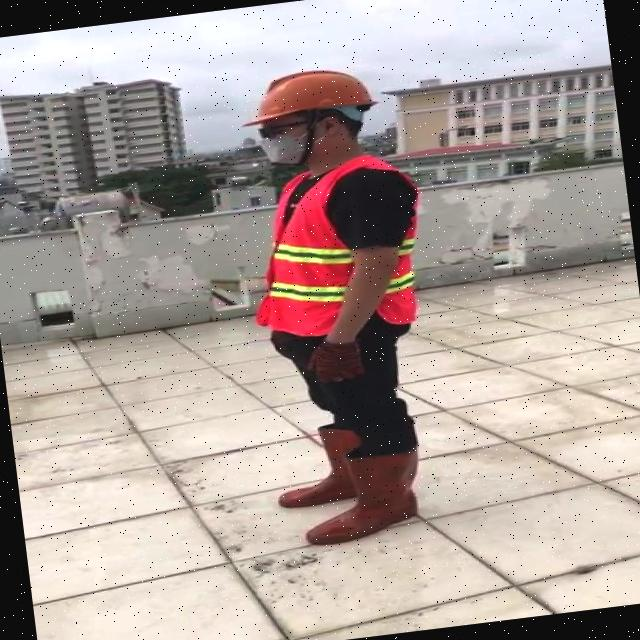boots: (296, 447, 429, 547), (269, 424, 371, 511)
